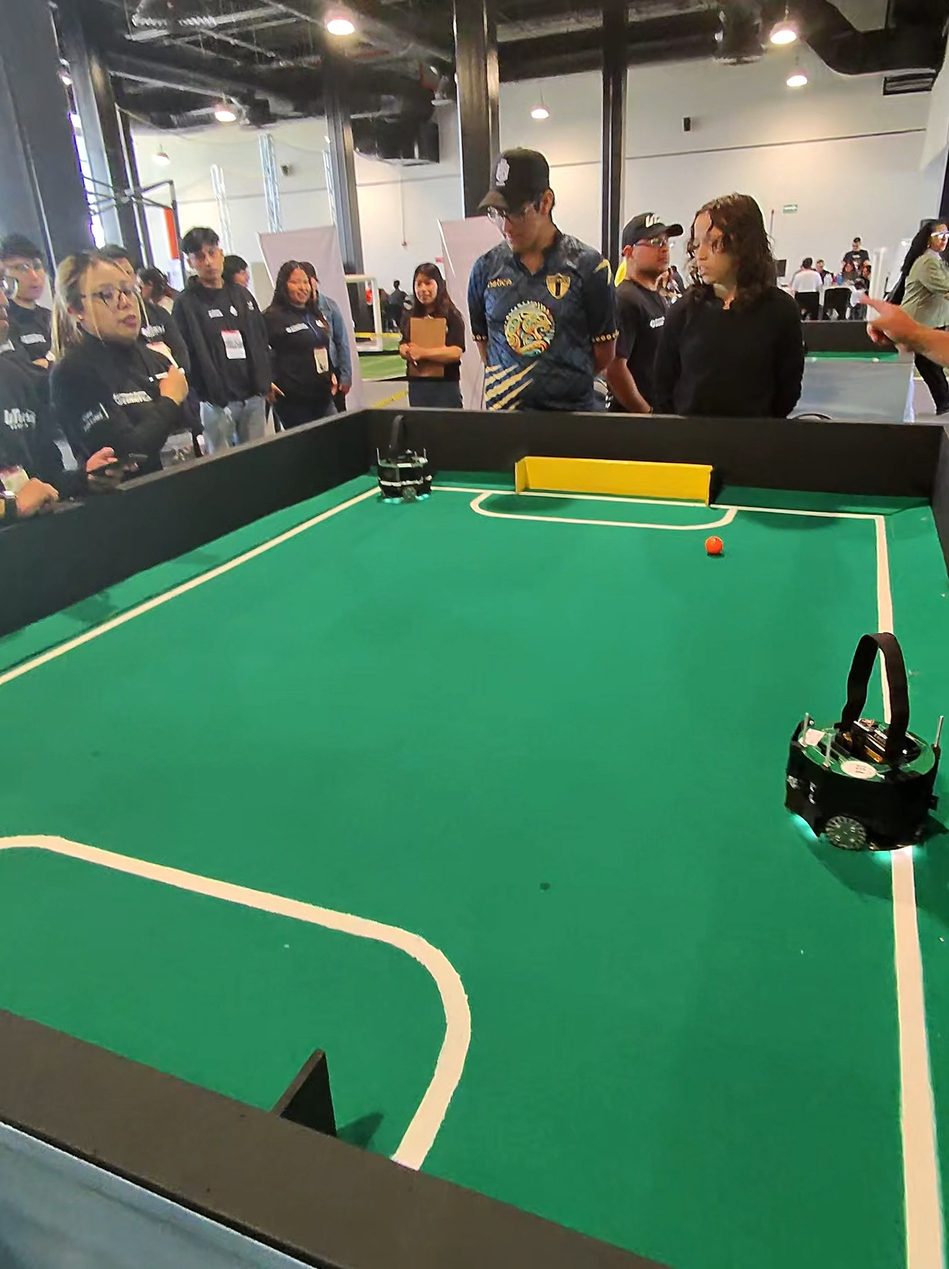Robot: (768, 603, 949, 881), (377, 405, 441, 510)
pelota: (683, 522, 747, 576)
